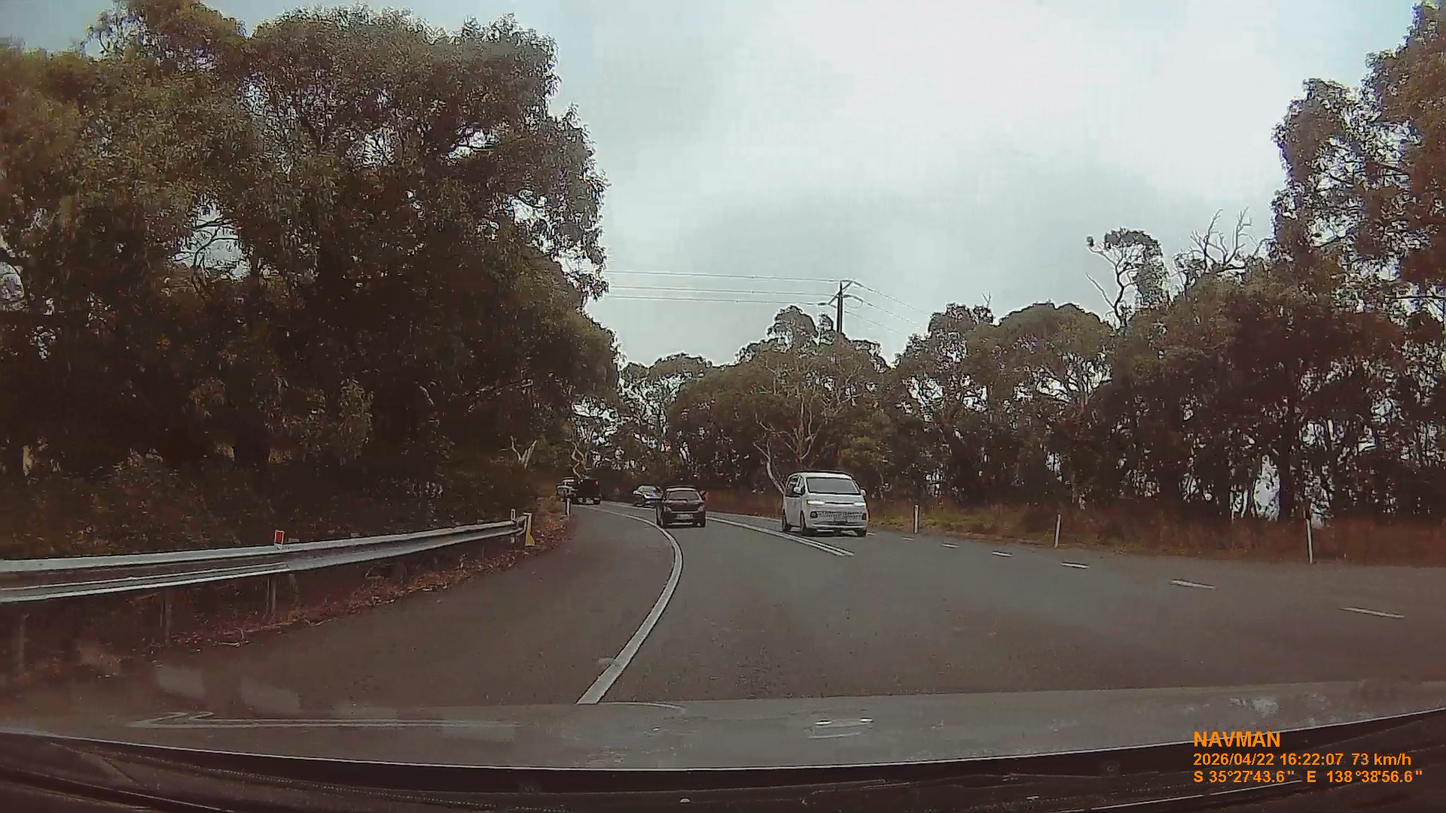road barriers: (0, 515, 527, 687)
